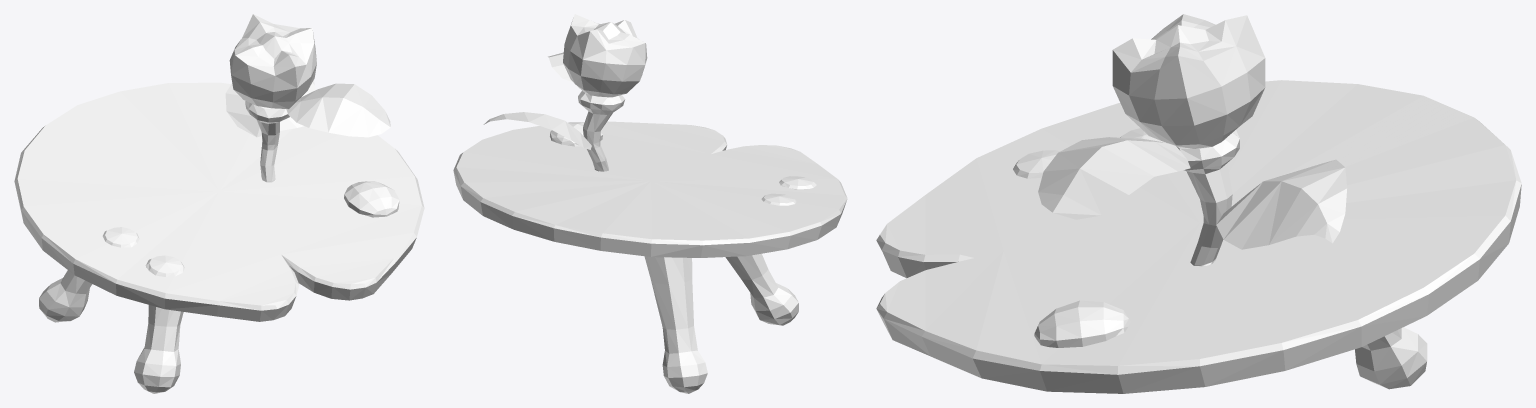
The model's file is g_s_table.glb.
The picture shows the model from 3 angles, left to right: view 1: azimuth 30°, elevation 25°; view 2: azimuth 150°, elevation 25°; view 3: azimuth 270°, elevation 25°; orthographic projection. The views are drawn at different scales.
Parts seen in each view (by area): view 1: geometry_0; view 2: geometry_0; view 3: geometry_0.
Boxes of the visible parts, bbox=[...] form: geometry_0: bbox=[14, 14, 424, 393]; geometry_0: bbox=[453, 14, 847, 393]; geometry_0: bbox=[876, 14, 1521, 393].
Bounding box in the file's own units: 0.1753 × 0.1431 × 0.1733.
1 material, 1 textured.
